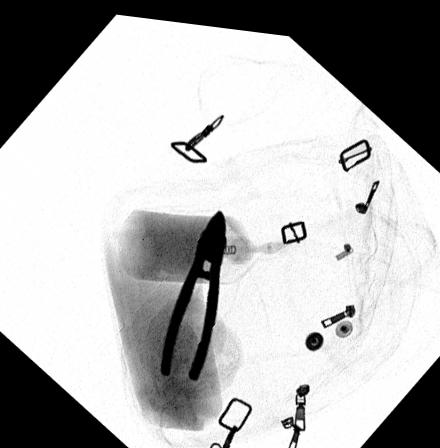Pliers: (160, 203, 226, 375)
